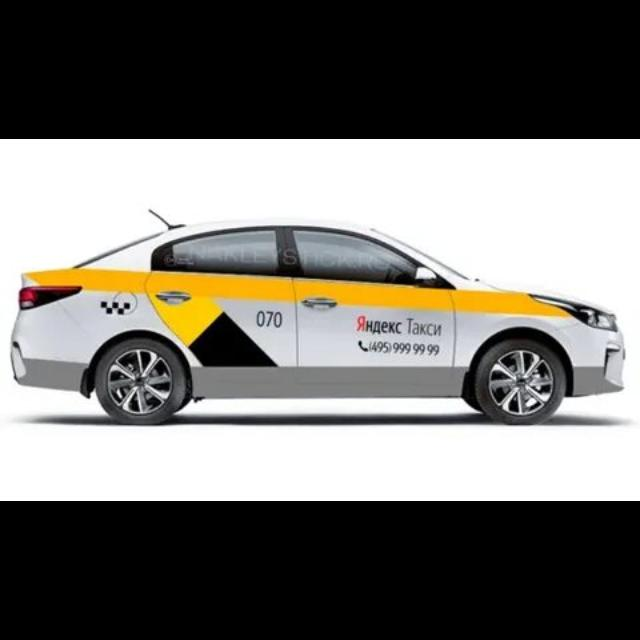taxi: (10, 208, 626, 426)
